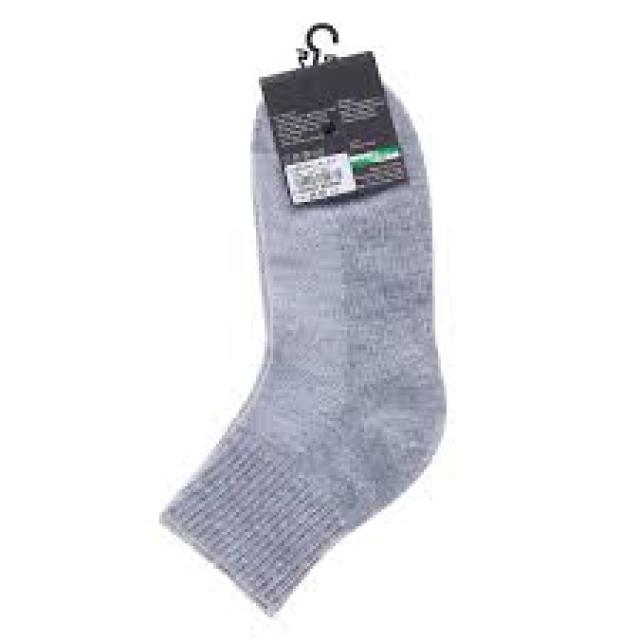sock: (156, 28, 446, 618)
